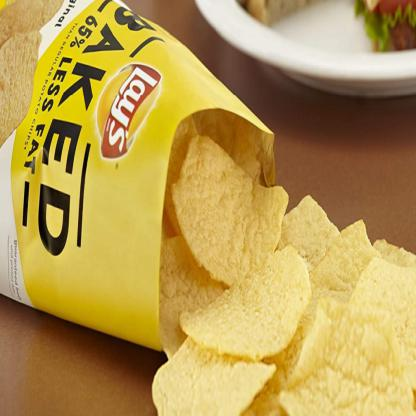potatochip: (0, 0, 275, 389)
